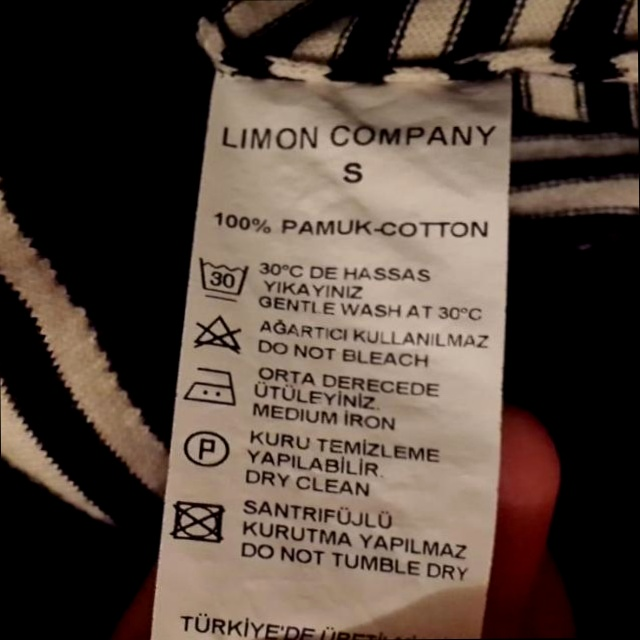30C: (198, 257, 250, 304)
DN_bleach: (192, 313, 242, 355)
DN_tumble_dry: (170, 497, 226, 545)
dry_clean_any_solvent_except_trichloroethylene: (180, 428, 232, 471)
iron_medium: (184, 366, 240, 409)
